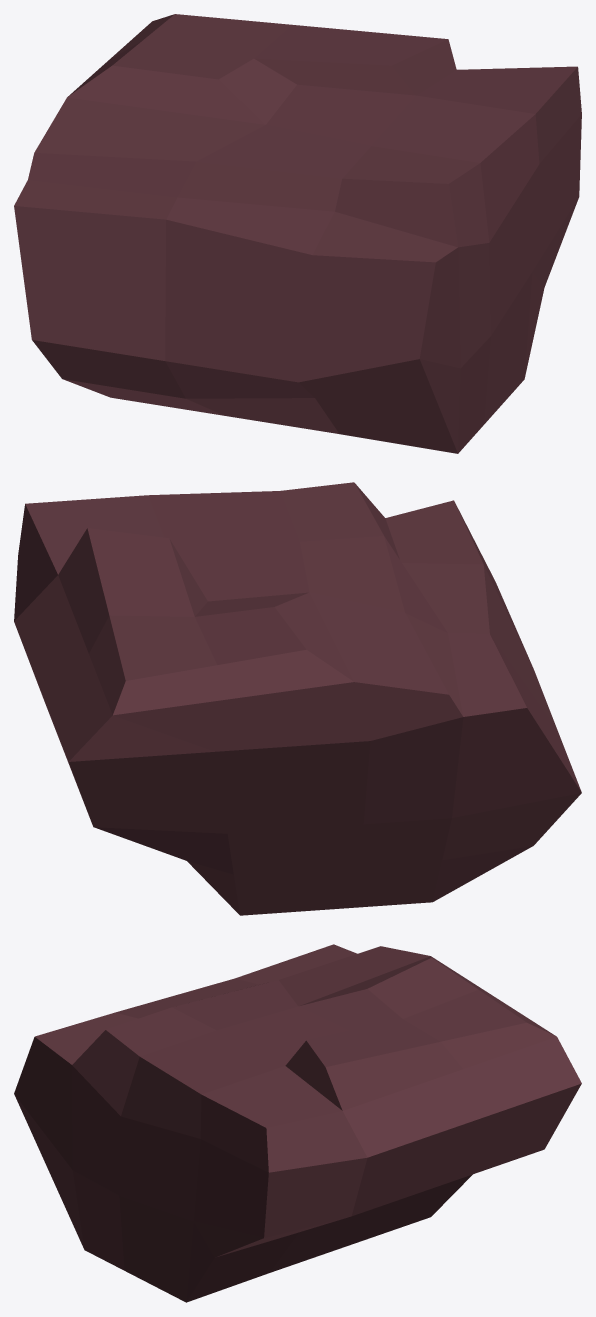
Rendered from carbon.fbx.
3 renders of one model, top to bottom at view 1: azimuth 30°, elevation 25°; view 2: azimuth 150°, elevation 25°; view 3: azimuth 270°, elevation 25°, orthographic. The views are drawn at different scales.
Parts seen in each view (by area): view 1: carbon; view 2: carbon; view 3: carbon.
Boxes of the visible parts, left/top/right/bottom form: carbon: left=14, top=14, right=581, bottom=453; carbon: left=14, top=482, right=581, bottom=915; carbon: left=14, top=944, right=581, bottom=1302.
Size of the model in its own units: 0.6972 by 0.3396 by 0.7352.
